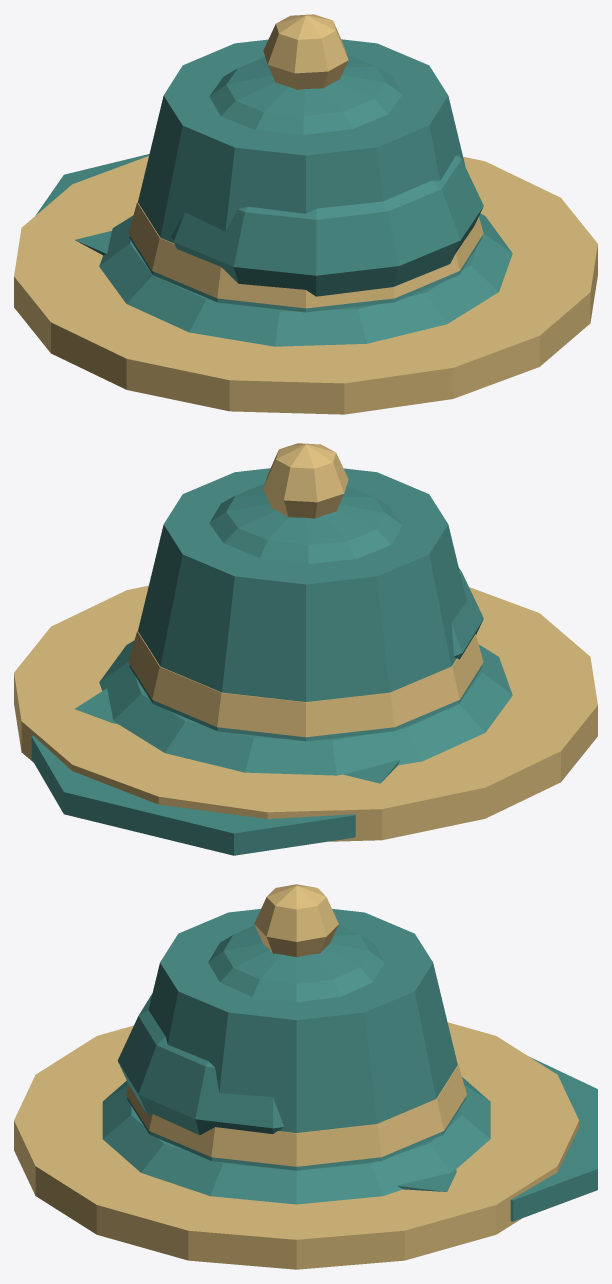
File: headwear-v3.glb
3 views of the same model, one above another, from view 1: azimuth 30°, elevation 25°; view 2: azimuth 150°, elevation 25°; view 3: azimuth 270°, elevation 25° (orthographic). The views are drawn at different scales.
Parts seen in each view (by area): view 1: HatBrim, HatBucket, HatCap, HatBeanie; view 2: HatBucket, HatBrim, HatBeanie, HatCap; view 3: HatBucket, HatBrim, HatCap, HatBeanie.
Part boxes in pixels (x1=…): HatBrim: x1=14, y1=156, x2=597, y2=414; HatBucket: x1=99, y1=39, x2=512, y2=346; HatCap: x1=35, y1=154, x2=483, y2=296; HatBeanie: x1=209, y1=14, x2=402, y2=134; HatBucket: x1=99, y1=468, x2=512, y2=775; HatBrim: x1=14, y1=585, x2=597, y2=841; HatBeanie: x1=209, y1=443, x2=402, y2=563; HatCap: x1=31, y1=568, x2=483, y2=855; HatBucket: x1=102, y1=909, x2=490, y2=1204; HatBrim: x1=14, y1=1022, x2=578, y2=1269; HatCap: x1=117, y1=993, x2=597, y2=1221; HatBeanie: x1=208, y1=884, x2=384, y2=1002.
Size of the model in its own units: 0.6 by 0.31 by 0.62.
